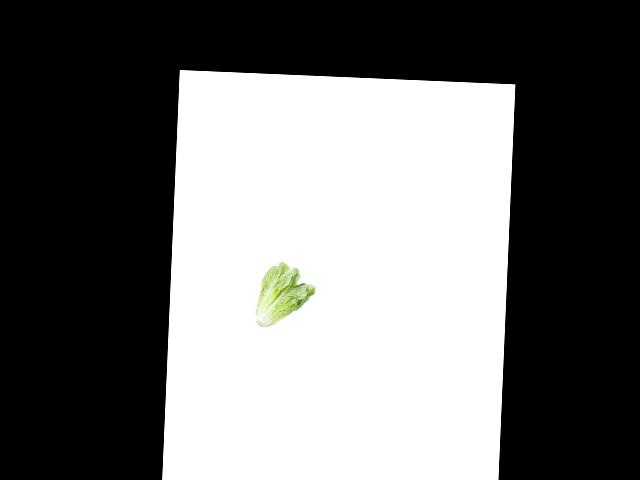lettuce: (249, 261, 318, 333)
